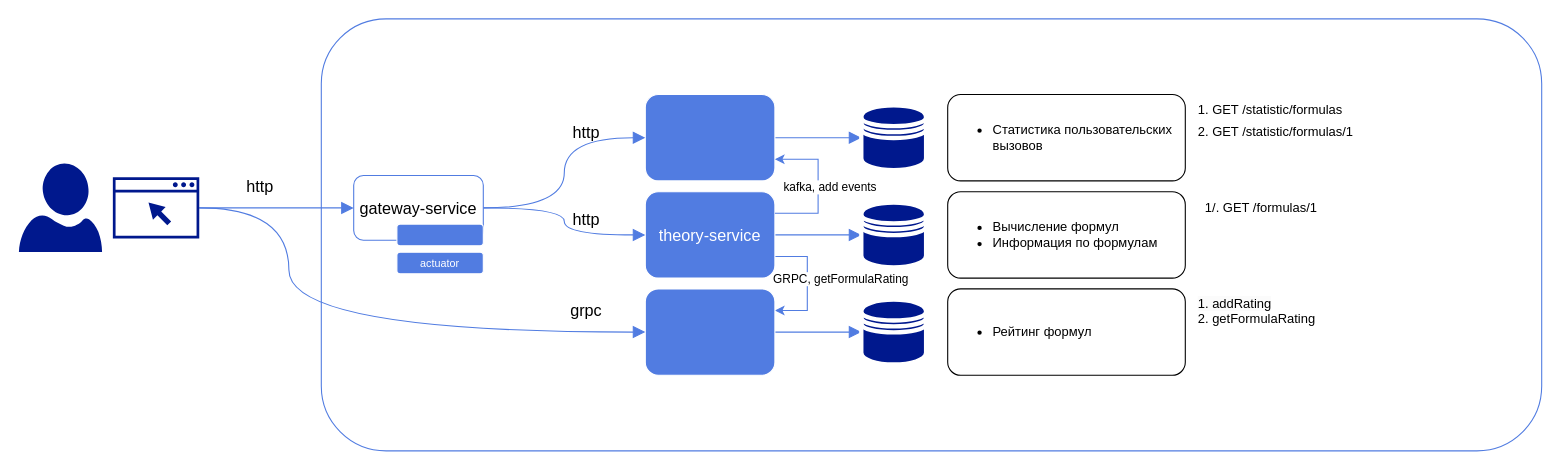
The diagram is 1561 pixels wide and 470 high, and some of its shapes have lost their labels. Here are the shapes that lost their labels. From the top down, the centre of each, then its label:
point (709, 137): statistic-service
point (439, 234): circuit breaker
point (709, 331): rating-service
